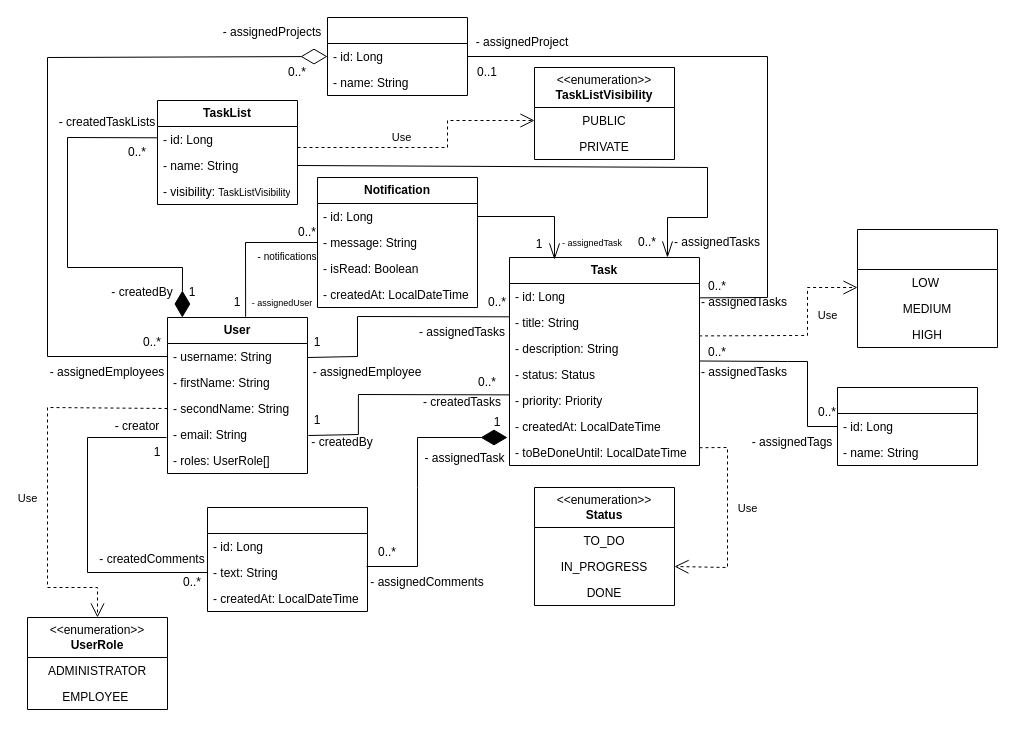
The diagram is 1015 pixels wide and 730 high, and some of its shapes have lost their labels. The box of each missing label's shape, as (x1, y1, x2, y2) in pixels:
<<enumeration>> Priority: (856, 228, 998, 348)
Comment: (206, 506, 368, 612)
Project: (326, 16, 468, 96)
Tag: (836, 386, 978, 466)
